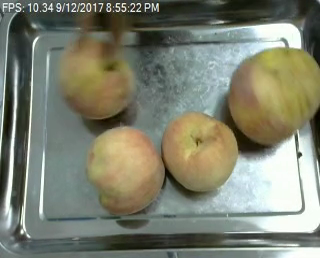Peach: (228, 44, 319, 145), (85, 125, 165, 215), (162, 110, 239, 193), (58, 38, 135, 120)
